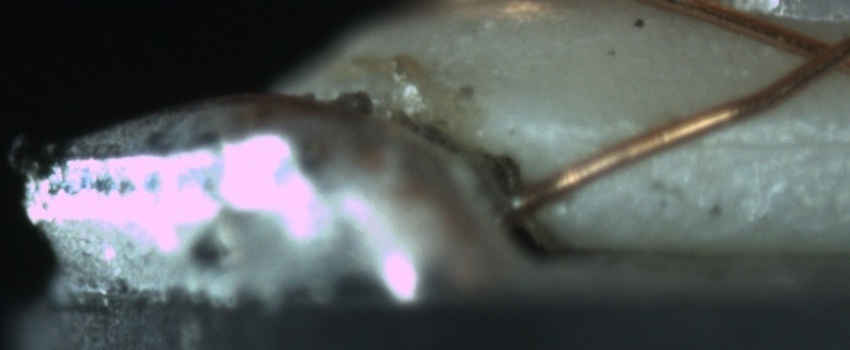CL: (782, 24, 848, 80)
DL: (601, 106, 849, 174)
